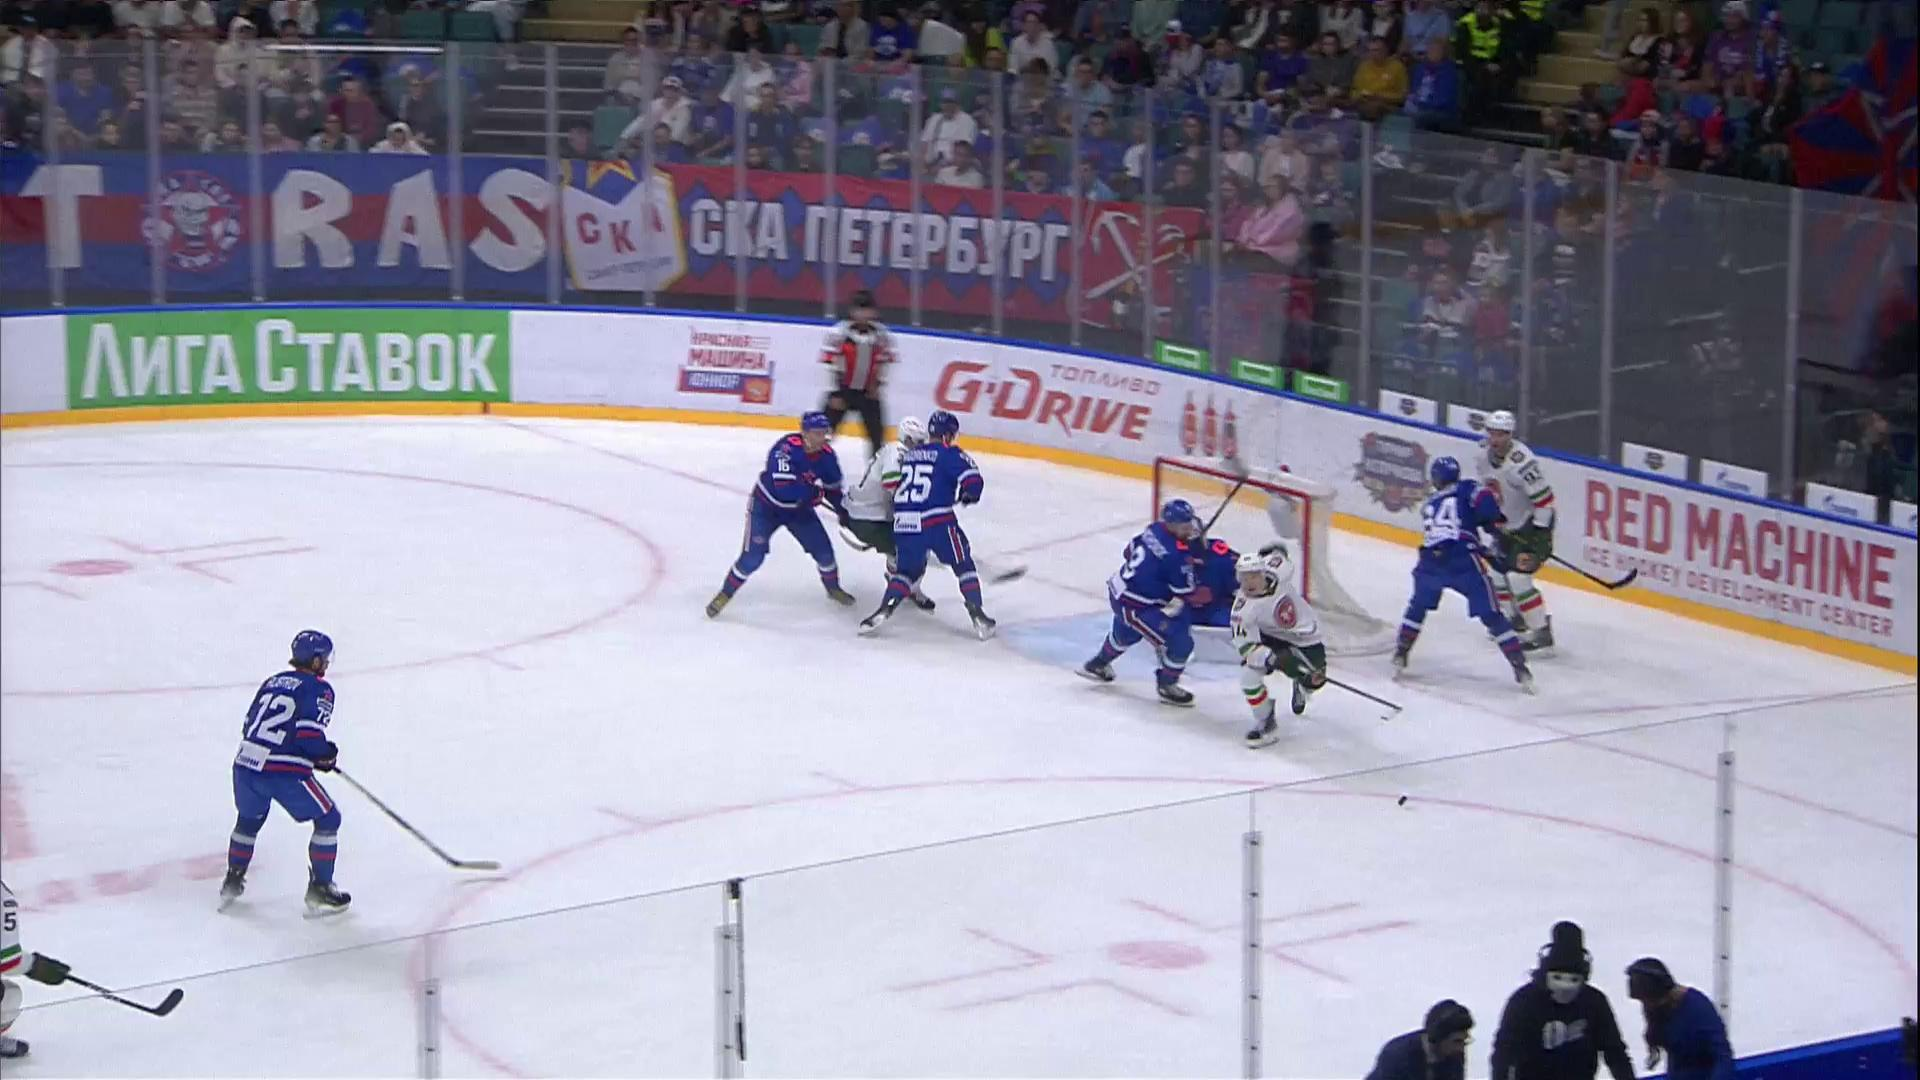ball: (1398, 796, 1407, 807)
